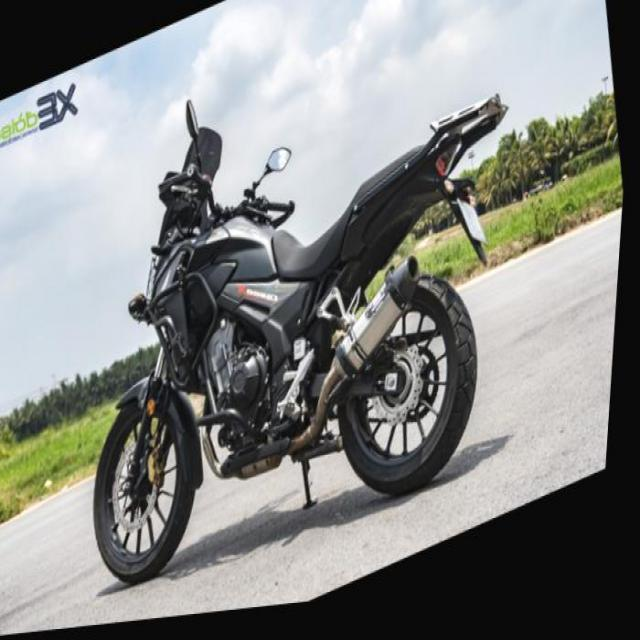CB500X: (41, 18, 519, 632)
